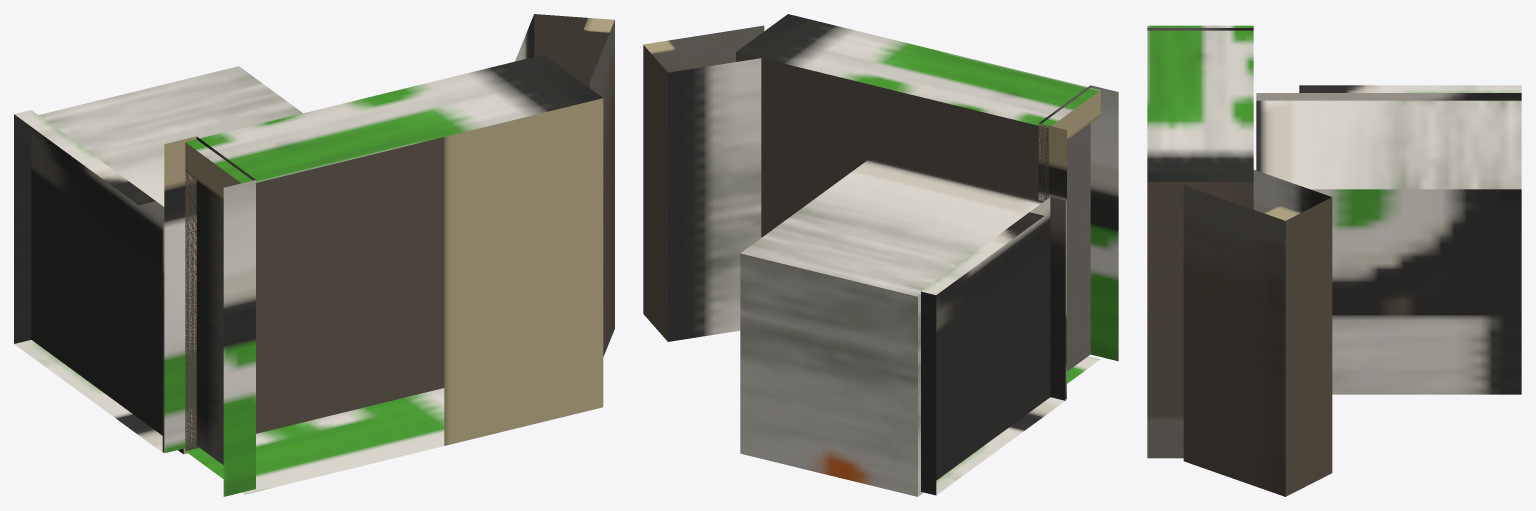
File: section-3.obj
3 renders of one model, left to right at view 1: azimuth 30°, elevation 25°; view 2: azimuth 150°, elevation 25°; view 3: azimuth 270°, elevation 25°, orthographic. The views are drawn at different scales.
Bounding box in the file's own units: 1.04 × 0.6699 × 0.8044.
